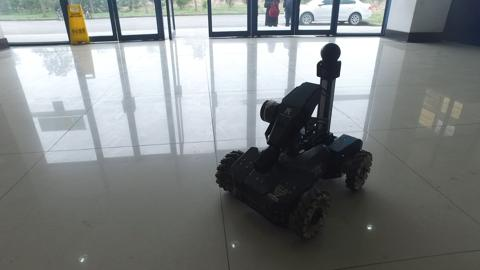car: (282, 1, 375, 25)
chariot: (213, 41, 373, 241)
